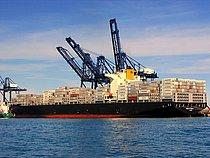Ship: (6, 16, 210, 123)
